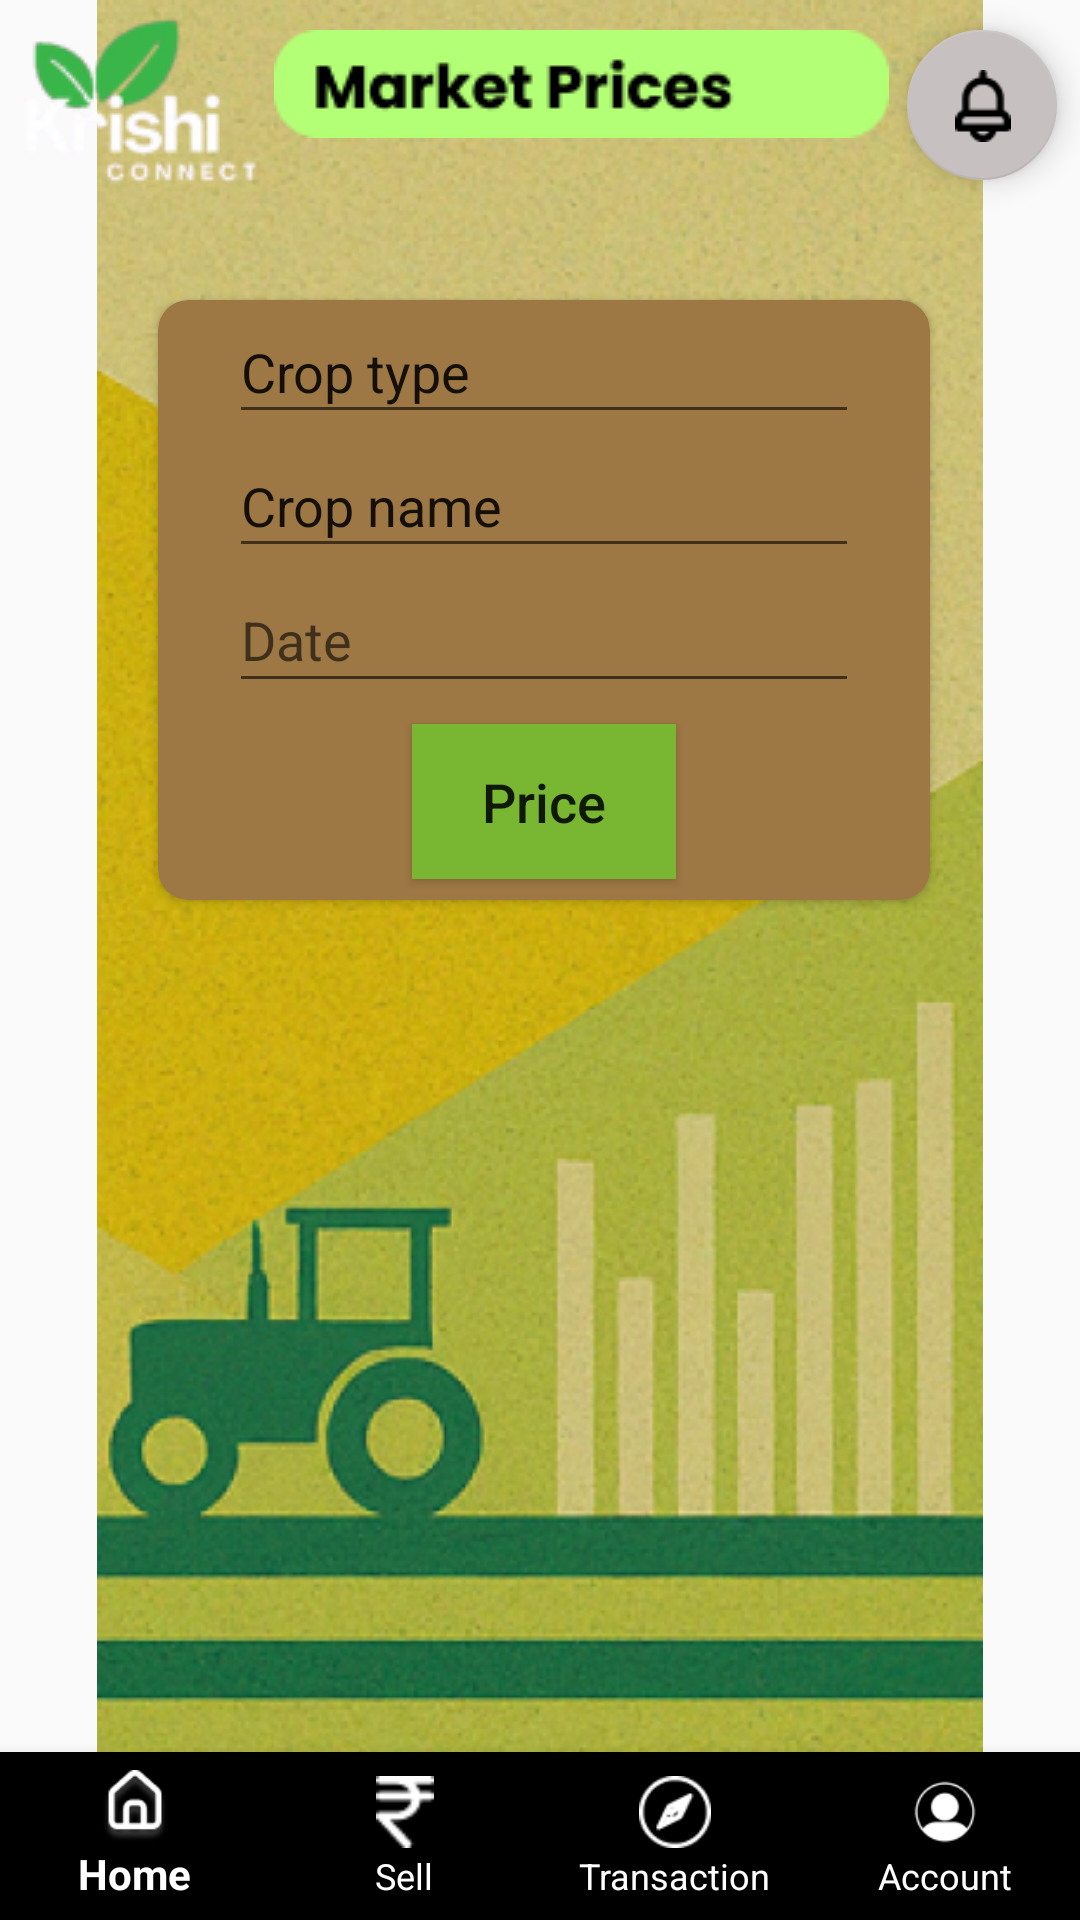

Screen size 1080×1920. Icon name, then its center in pixels as (x=x, y=y):
bell: (x=982, y=105)
